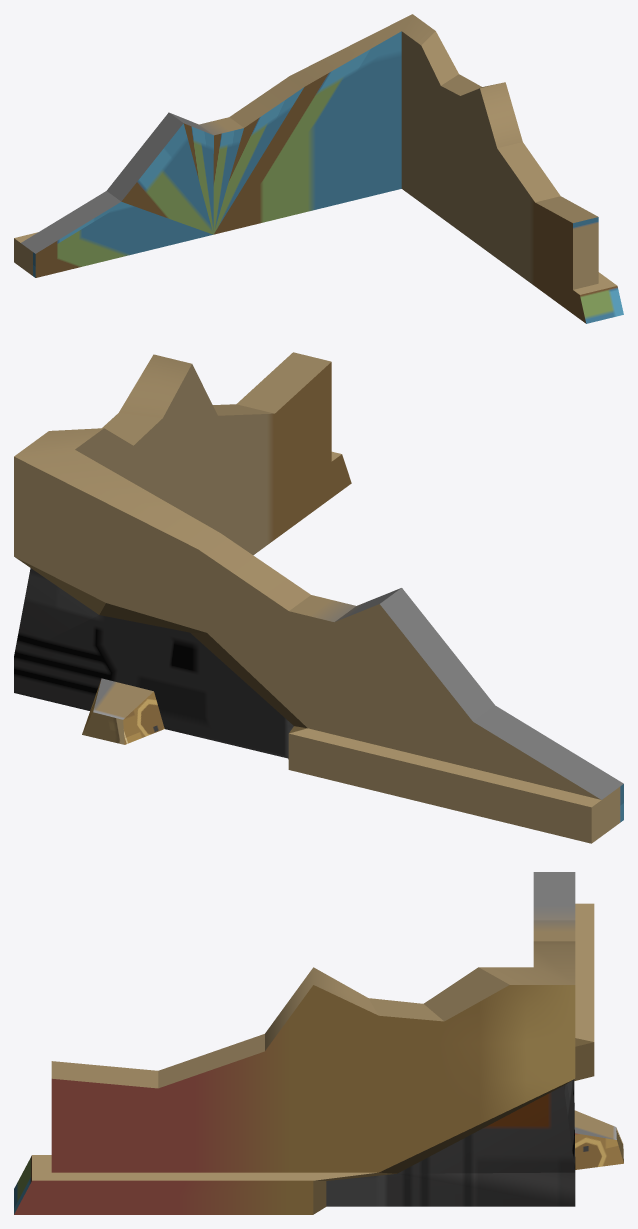
File: wall_damaged_01.gltf
The picture shows the model from 3 angles, top to bottom: view 1: azimuth 30°, elevation 25°; view 2: azimuth 150°, elevation 25°; view 3: azimuth 270°, elevation 25°; orthographic projection. The views are drawn at different scales.
Parts seen in each view (by area): view 1: wall_damaged_01; view 2: wall_damaged_01; view 3: wall_damaged_01.
Boxes of the visible parts, left/top/right/bottom form: wall_damaged_01: left=14, top=14, right=623, bottom=323; wall_damaged_01: left=14, top=352, right=623, bottom=843; wall_damaged_01: left=14, top=872, right=623, bottom=1214.
Size of the model in its own units: 6.66 by 2.48 by 6.19.
1 material, 1 textured.
